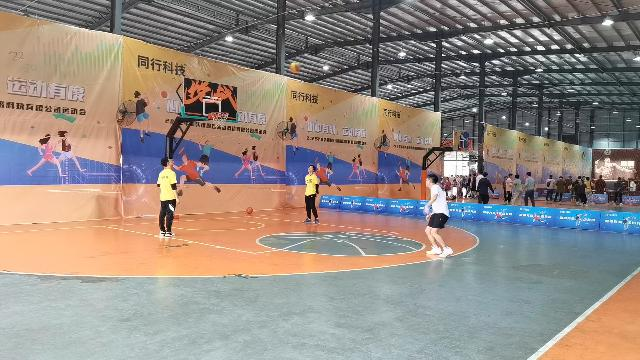ball: (289, 62, 299, 72), (246, 207, 252, 214)
basket: (210, 112, 228, 126)
